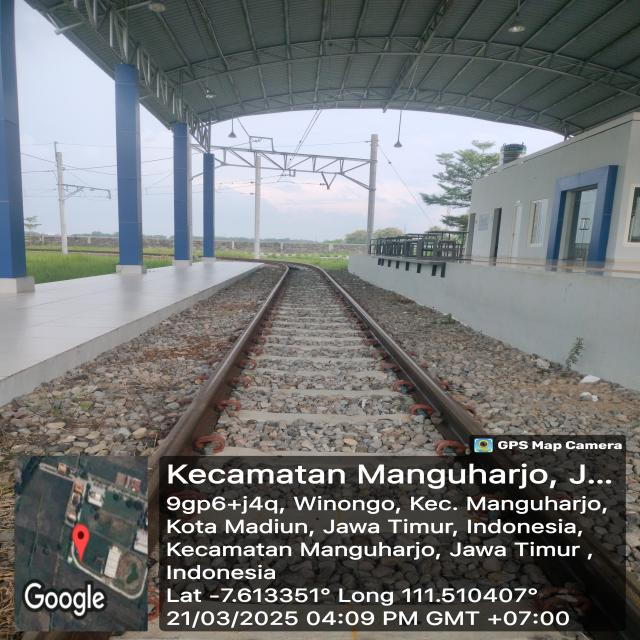rail-detection: (148, 261, 291, 551), (299, 264, 488, 457)
